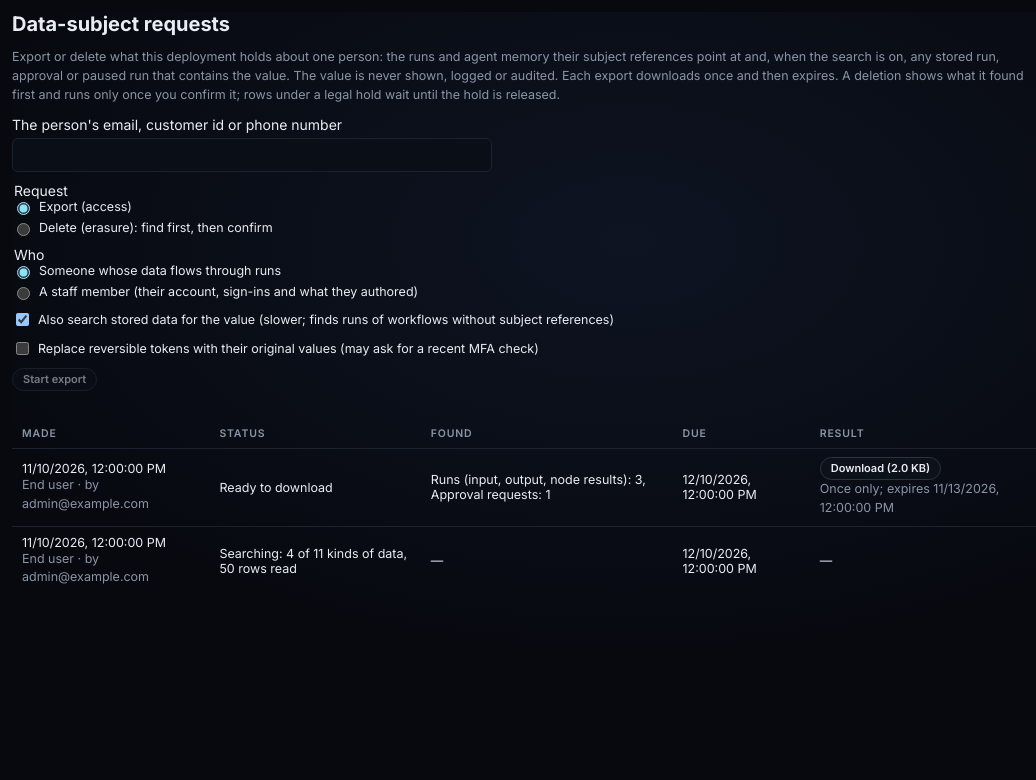
Test case: data-subject requests section › lists requests with what was found, and downloads an export once
This screenshot has width=1036, height=780.
Expected: the row with test id "subject-request-dsr_1" shows "Runs (input, output, node results): 3", left=431, top=472, right=646, bottom=502
Expected: the row with test id "subject-request-dsr_1" shows "Approval requests: 1", left=431, top=472, right=646, bottom=502
Click the button "Download (2.0 KB)". click: (880, 468)
box: left=820, top=457, right=941, bottom=480
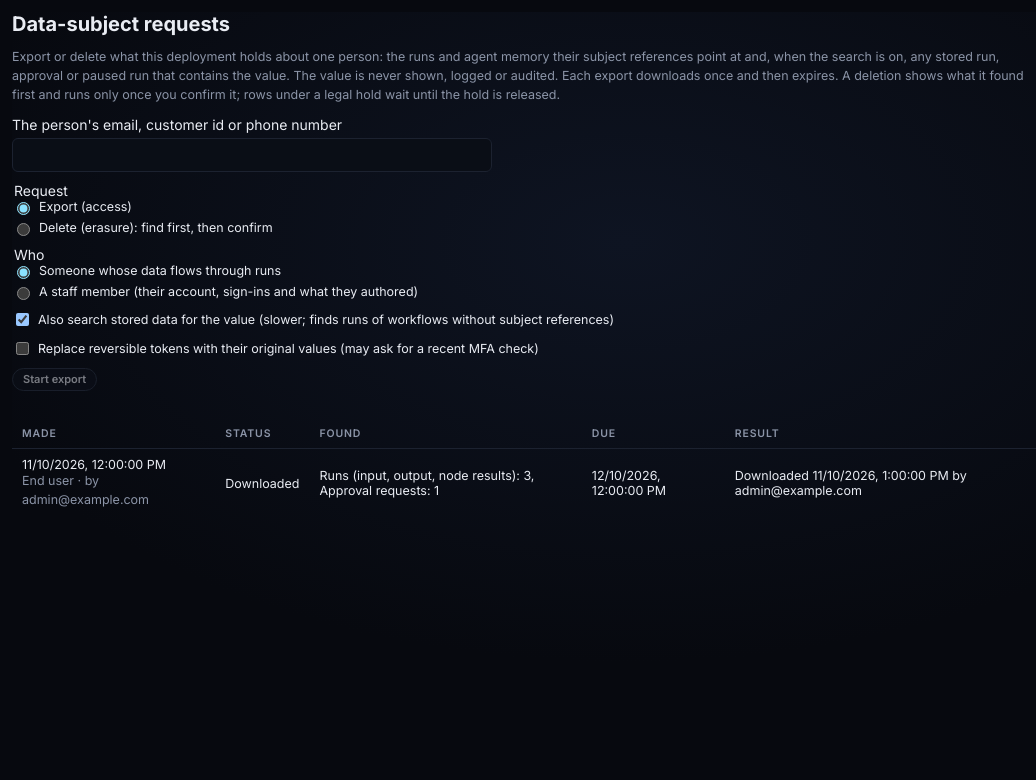
Expected: the row with test id "subject-request-dsr_1" shows "Downloaded", left=225, top=476, right=300, bottom=491
